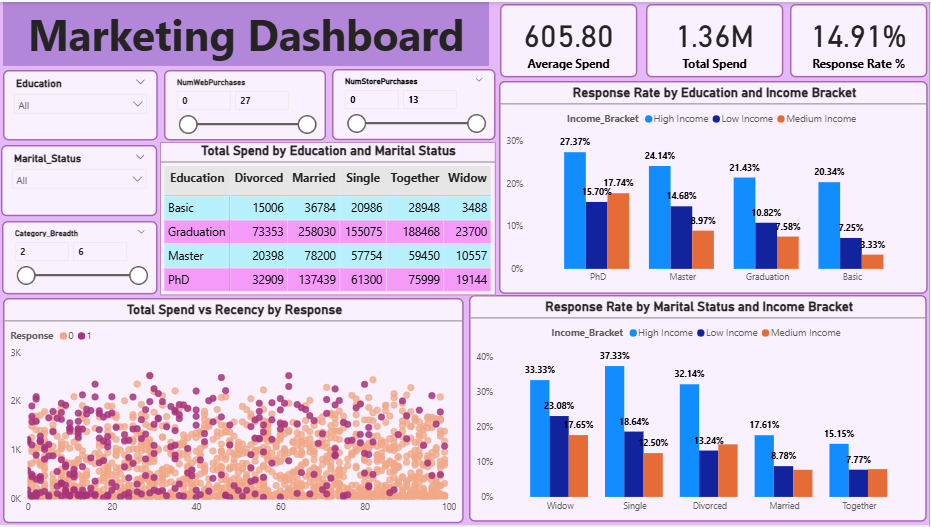

The dashboard page shown, as its layout file describes it:
{"tool":"powerbi","page":{"name":"Marketing Dashboard","canvas":[1280,720],"ordinal":1},"visuals":[{"type":"clusteredColumnChart","title":"Response Rate by Marital Status and Income Bracket","fields":{"Category":["Clean_marketing_analysis.Marital_Status"],"Series":["Clean_marketing_analysis.Income_Bracket"],"Y":["Clean_marketing_analysis.Response Rate %"]},"box":[646.5,403.9,629.7,312.3],"z":0},{"type":"scatterChart","title":"Total Spend vs Recency by Response","fields":{"X":["Clean_marketing_analysis.Recency"],"Y":["Clean_marketing_analysis.Total_Spend"],"Series":["Clean_marketing_analysis.Response"]},"box":[5.7,406.8,633.5,310.4],"z":1000},{"type":"clusteredColumnChart","title":"Response Rate by Education and Income Bracket","fields":{"Category":["Clean_marketing_analysis.Education"],"Series":["Clean_marketing_analysis.Income_Bracket"],"Y":["Clean_marketing_analysis.Response Rate %"]},"box":[687.7,108.4,589.7,292.9],"z":2000},{"type":"pivotTable","title":"Total Spend by Education and Marital Status","fields":{"Rows":["Clean_marketing_analysis.Education"],"Values":["Sum(Clean_marketing_analysis.Total_Spend)"],"Columns":["Clean_marketing_analysis.Marital_Status"]},"box":[221.1,192.8,462,211.2],"z":3000},{"type":"card","fields":{"Values":["Clean_marketing_analysis.Response Rate %"]},"box":[1088.5,2.8,188.5,100.6],"z":4000},{"type":"card","fields":{"Values":["Sum(Clean_marketing_analysis.Total_Spend)"]},"box":[890.1,2.8,188.5,100.6],"z":5000},{"type":"card","fields":{"Values":["Avg(Clean_marketing_analysis.Total_Spend)"]},"box":[690.2,2.8,188.5,100.6],"z":6000},{"type":"textbox","box":[5.7,0,669,87.9],"z":7000},{"type":"slicer","fields":{"Values":["Clean_marketing_analysis.NumStorePurchases"]},"box":[458.1,91.6,224.5,98.1],"z":8000},{"type":"slicer","fields":{"Values":["Clean_marketing_analysis.NumWebPurchases"]},"box":[227.1,92.9,223.2,96.8],"z":9000},{"type":"slicer","fields":{"Values":["Clean_marketing_analysis.Category_Breadth"]},"box":[3.9,301.9,214.2,100.6],"z":10000},{"type":"slicer","fields":{"Values":["Clean_marketing_analysis.Education"]},"box":[5.2,92.9,212.9,96.8],"z":11000},{"type":"slicer","fields":{"Values":["Clean_marketing_analysis.Marital_Status"]},"box":[2.6,197.4,215.5,98.1],"z":12000}]}

Visuals, with their boxes in screenshot pixels (x1, y1, x2, y2), scaled from the page's 1280x720 canvas onto the 931x527 screenshot:
"Response Rate by Marital Status and Income Bracket" clusteredColumnChart: <box>470,296,928,524</box>
"Total Spend vs Recency by Response" scatterChart: <box>4,298,465,525</box>
"Response Rate by Education and Income Bracket" clusteredColumnChart: <box>500,79,929,294</box>
"Total Spend by Education and Marital Status" pivotTable: <box>161,141,497,296</box>
card - Clean_marketing_analysis.Response Rate %: <box>792,2,929,76</box>
card - Sum(Clean_marketing_analysis.Total_Spend): <box>647,2,785,76</box>
card - Avg(Clean_marketing_analysis.Total_Spend): <box>502,2,639,76</box>
textbox: <box>4,0,491,64</box>
slicer - Clean_marketing_analysis.NumStorePurchases: <box>333,67,496,139</box>
slicer - Clean_marketing_analysis.NumWebPurchases: <box>165,68,328,139</box>
slicer - Clean_marketing_analysis.Category_Breadth: <box>3,221,159,295</box>
slicer - Clean_marketing_analysis.Education: <box>4,68,159,139</box>
slicer - Clean_marketing_analysis.Marital_Status: <box>2,144,159,216</box>
